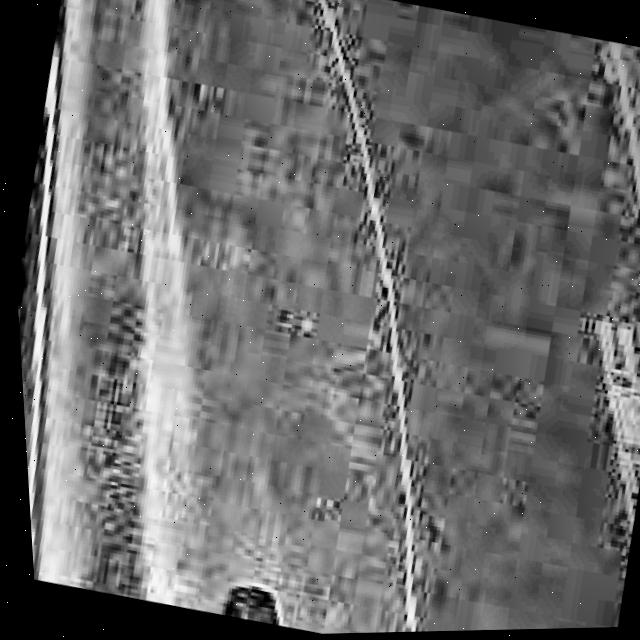door_scratch: (275, 26, 454, 344), (328, 355, 479, 633)
